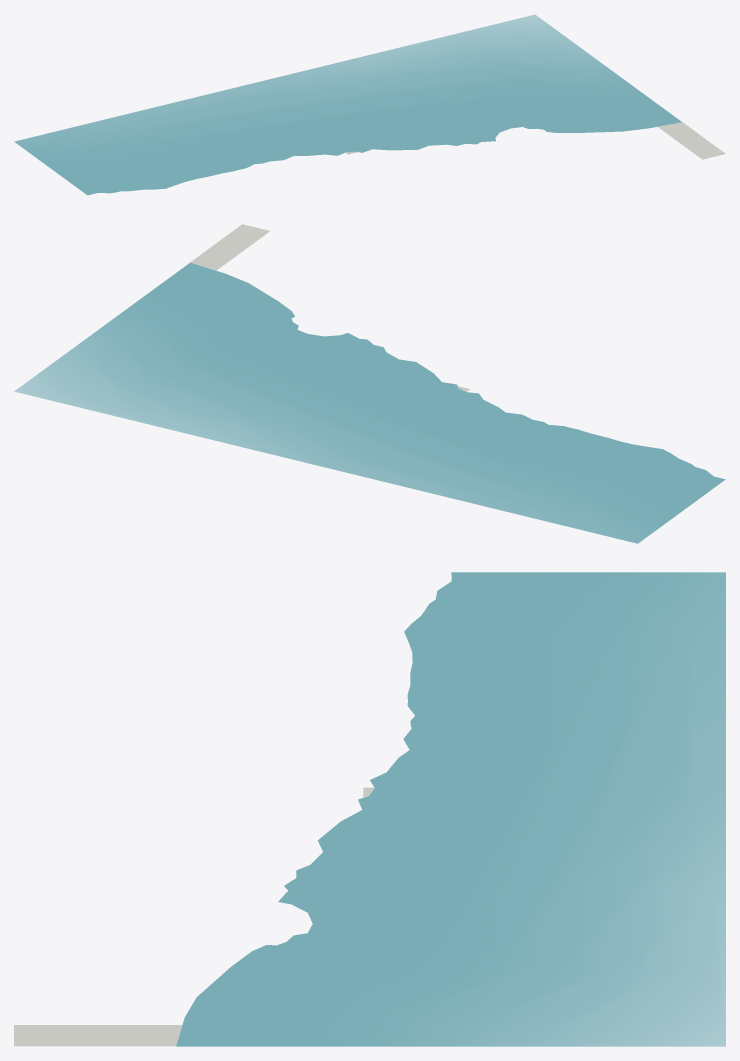
The picture shows the model from 3 angles, top to bottom: view 1: azimuth 30°, elevation 25°; view 2: azimuth 150°, elevation 25°; view 3: azimuth 270°, elevation 25°; orthographic projection. The views are drawn at different scales.
Parts seen in each view (by area): view 1: city; view 2: city; view 3: city.
Boxes of the visible parts, box(x1,y1,x2,y2) form: city: box(14, 14, 725, 195); city: box(14, 224, 725, 543); city: box(14, 572, 725, 1046).
Size of the model in its own units: 500 by 0.18 by 317.
